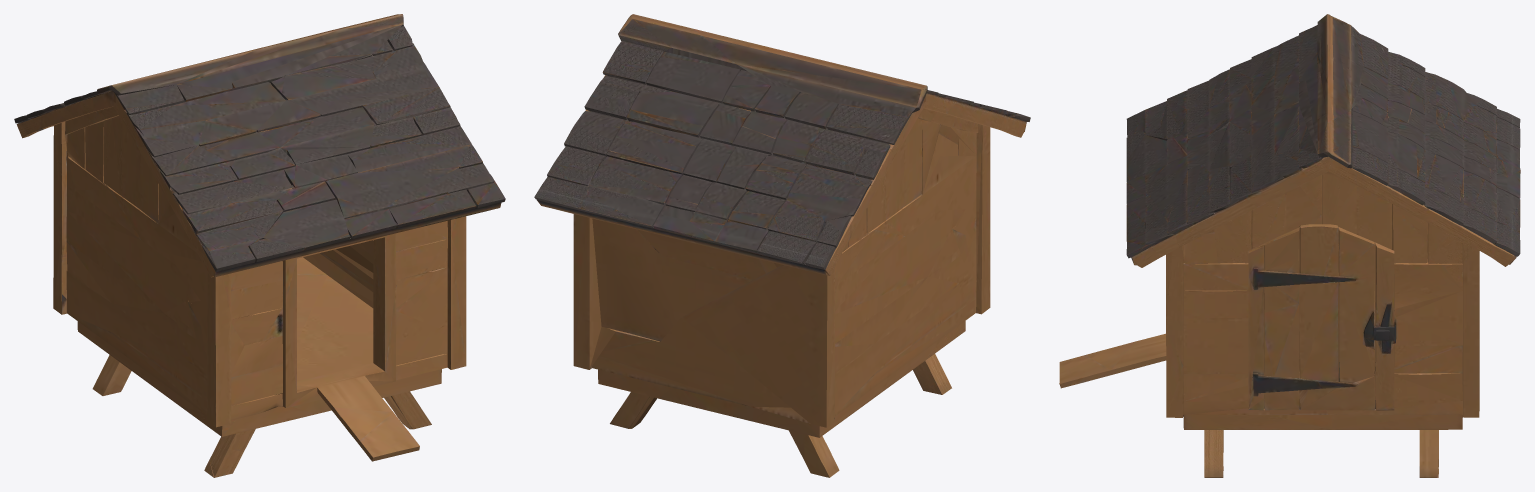
Rendered from coop.glb.
3 renders of one model, left to right at view 1: azimuth 30°, elevation 25°; view 2: azimuth 150°, elevation 25°; view 3: azimuth 270°, elevation 25°, orthographic. The views are drawn at different scales.
Visible parts, largest first — view 1: output_unwrapped; view 2: output_unwrapped; view 3: output_unwrapped.
Part boxes in pixels (x1,y1,x2,y2): output_unwrapped: (14,14,505,477); output_unwrapped: (534,14,1030,477); output_unwrapped: (1059,14,1520,477).
Size of the model in its own units: 1.37 by 1.56 by 1.9.
Materials: 1 (1 with a texture image).
